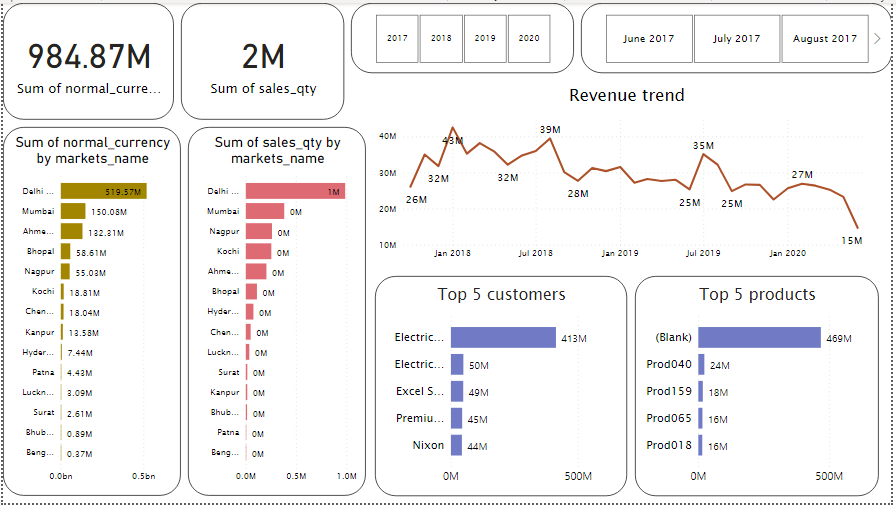

Layout of this report page (visuals, bound fields, positions):
{"tool":"powerbi","page":{"name":"Page 1","canvas":[1280,720],"ordinal":0},"visuals":[{"type":"card","fields":{"Values":["sales transactions.normal_currency"]},"box":[0,0,246.2,168.5],"z":0},{"type":"card","fields":{"Values":["sales transactions.sales_qty"]},"box":[256.3,0,234.7,168.5],"z":1000},{"type":"barChart","fields":{"Category":["sales markets.markets_name"],"Y":["sales transactions.normal_currency"]},"box":[0,178.6,256.3,531.4],"z":2000},{"type":"barChart","fields":{"Category":["sales markets.markets_name"],"Y":["sales transactions.sales_qty"]},"box":[266.4,178.6,256.3,531.4],"z":3000},{"type":"slicer","fields":{"Values":["sales date.year"]},"box":[501.1,0,321.1,100.8],"z":4000},{"type":"slicer","fields":{"Values":["sales date.cy_date"]},"box":[832.3,0,447.8,100.8],"z":5000},{"type":"barChart","title":"Top 5 customers","fields":{"Category":["sales customers.custmer_name"],"Y":["sales transactions.normal_currency"]},"box":[535.9,393.1,362.8,317.5],"z":6000},{"type":"barChart","title":"Top 5 products","fields":{"Category":["sales products.product_code"],"Y":["sales transactions.normal_currency"]},"box":[910.4,393.1,351.1,317.5],"z":7000},{"type":"lineChart","title":"Revenue trend","fields":{"Y":["sales transactions.sales_amount"],"Category":["sales date.cy_date"]},"box":[535.7,115.2,725.8,265],"z":8000}]}

Visuals, with their boxes in screenshot pixels (x1, y1, x2, y2), scaled from the page's 1280x720 canvas onto the 896x508 screenshot:
card - sales transactions.normal_currency: (0, 0, 172, 119)
card - sales transactions.sales_qty: (179, 0, 344, 119)
barChart - sales markets.markets_name x sales transactions.normal_currency: (0, 126, 179, 501)
barChart - sales markets.markets_name x sales transactions.sales_qty: (186, 126, 366, 501)
slicer - sales date.year: (351, 0, 576, 71)
slicer - sales date.cy_date: (583, 0, 895, 71)
"Top 5 customers" barChart: (375, 277, 629, 501)
"Top 5 products" barChart: (637, 277, 883, 501)
"Revenue trend" lineChart: (375, 81, 883, 268)
